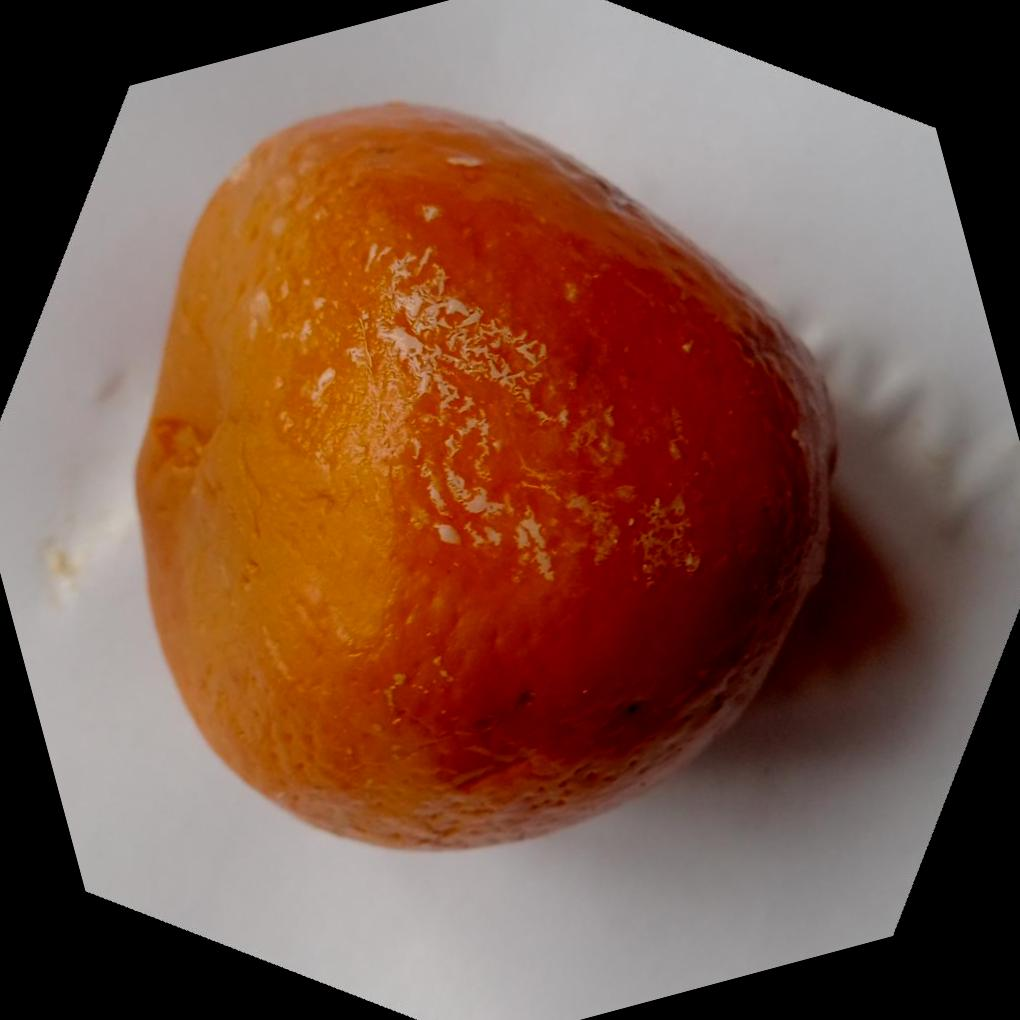FreshOrange: (129, 93, 840, 851)
